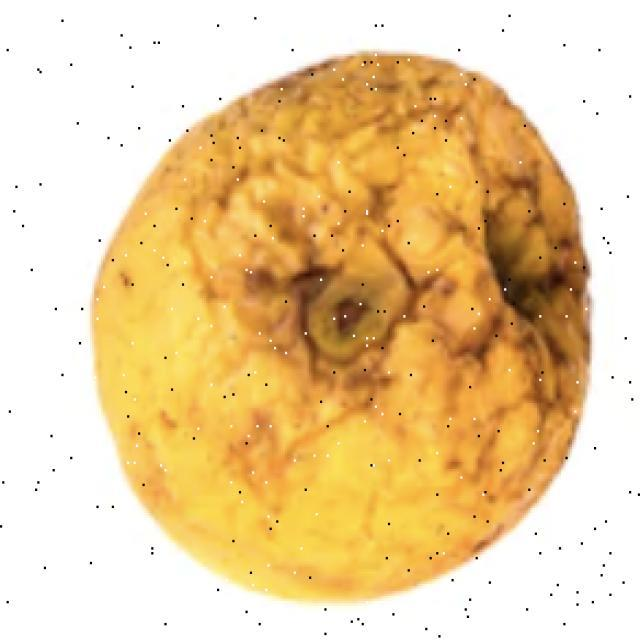Rotten: (75, 55, 587, 585)
